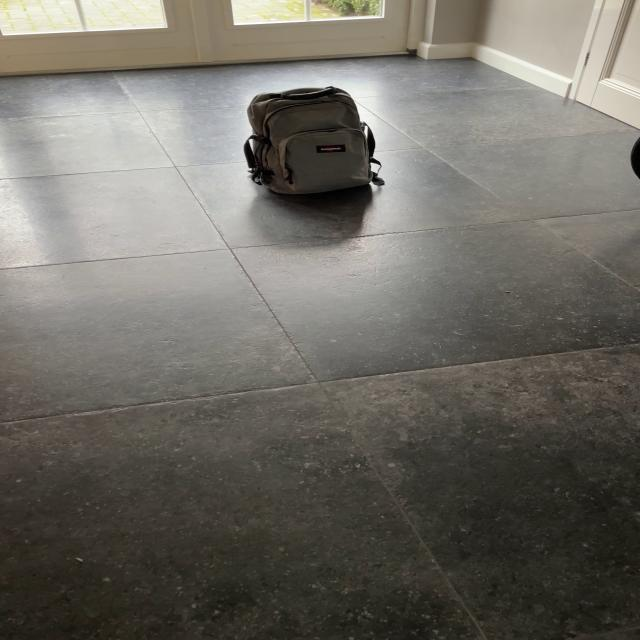backpack: (235, 82, 382, 199)
